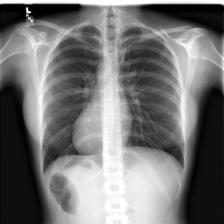normal: (37, 18, 186, 177)
